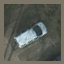car: (13, 23, 46, 50)
